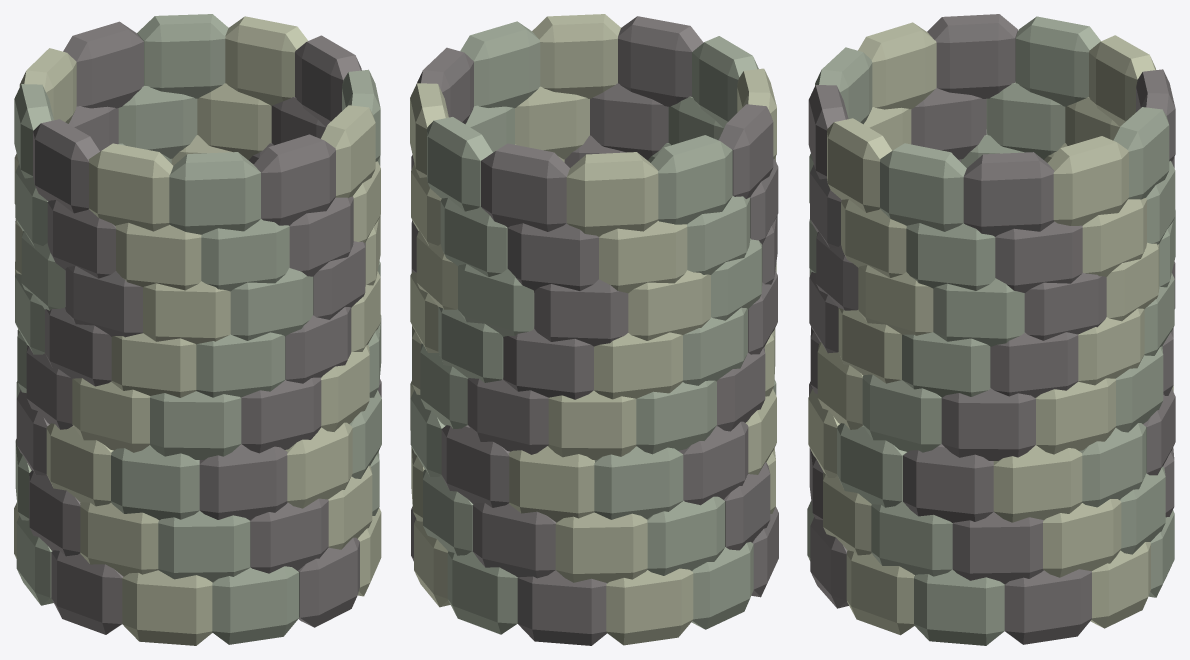
File: Cheminée.fbx
3 renders of one model, left to right at view 1: azimuth 30°, elevation 25°; view 2: azimuth 150°, elevation 25°; view 3: azimuth 270°, elevation 25°, orthographic.
Parts seen in each view (by area): view 1: Cheminée.001; view 2: Cheminée.001; view 3: Cheminée.001.
Part boxes in pixels (x1=…): Cheminée.001: x1=14, y1=14, x2=381, y2=645; Cheminée.001: x1=410, y1=14, x2=778, y2=645; Cheminée.001: x1=807, y1=14, x2=1175, y2=645.
Bounding box in the file's own units: 553 × 800 × 553.
